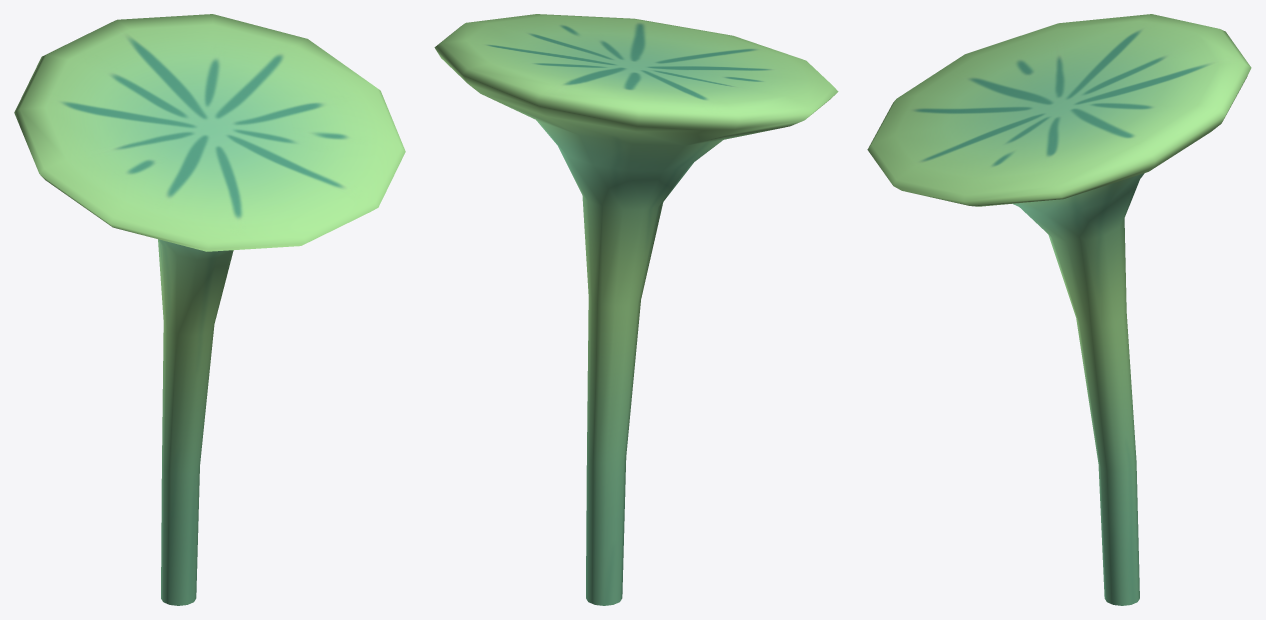
File: GiantCurniculus_01.fbx
3 renders of one model, left to right at view 1: azimuth 30°, elevation 25°; view 2: azimuth 150°, elevation 25°; view 3: azimuth 270°, elevation 25°, orthographic. The views are drawn at different scales.
Visible parts, largest first — view 1: GiantCurniculus_01; view 2: GiantCurniculus_01; view 3: GiantCurniculus_01.
Boxes of the visible parts, x1,y1,x2,y2 form: GiantCurniculus_01: (14,14,405,605); GiantCurniculus_01: (434,14,838,605); GiantCurniculus_01: (867,14,1251,605).
Bounding box in the file's own units: 962 × 1437 × 936.
